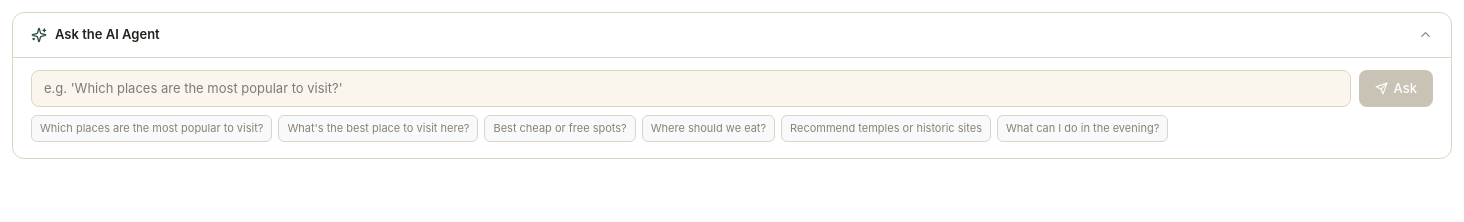
Test: AgentAskPanel › shows an error banner when the request fails
Step 1. Type "Any free spots?" into the field with placeholder "e.g. 'Which places are the most popular to visit?'" → point(691, 88), box [31,70,1351,107]
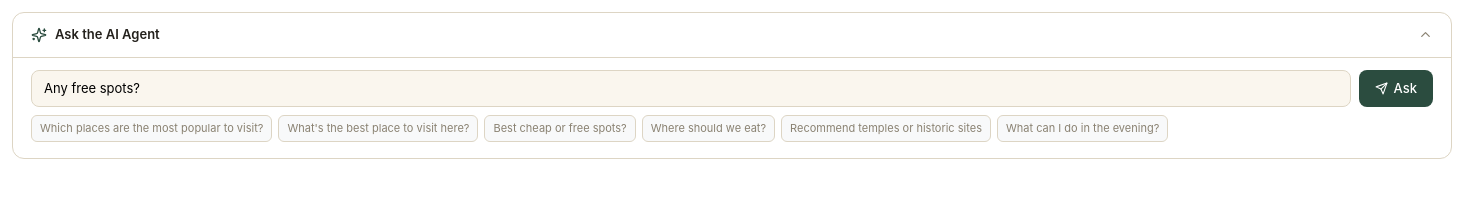
Step 2. Click the button "Ask" → point(1396, 88), box [1359,70,1433,107]
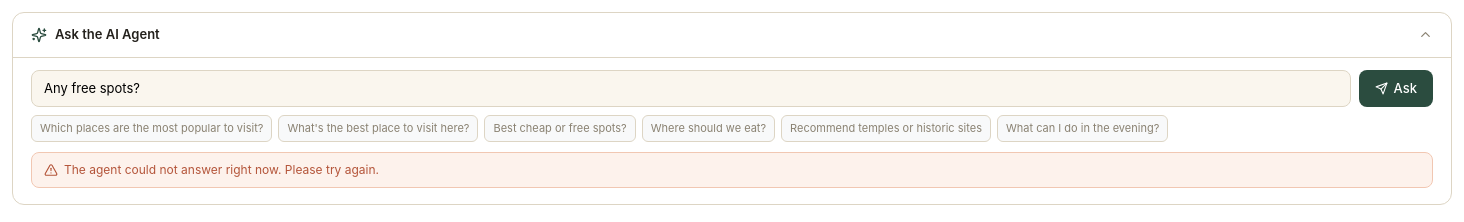
Check: the text "The agent could not answer right now. Please try again." is shown, box [31,152,1433,188]
